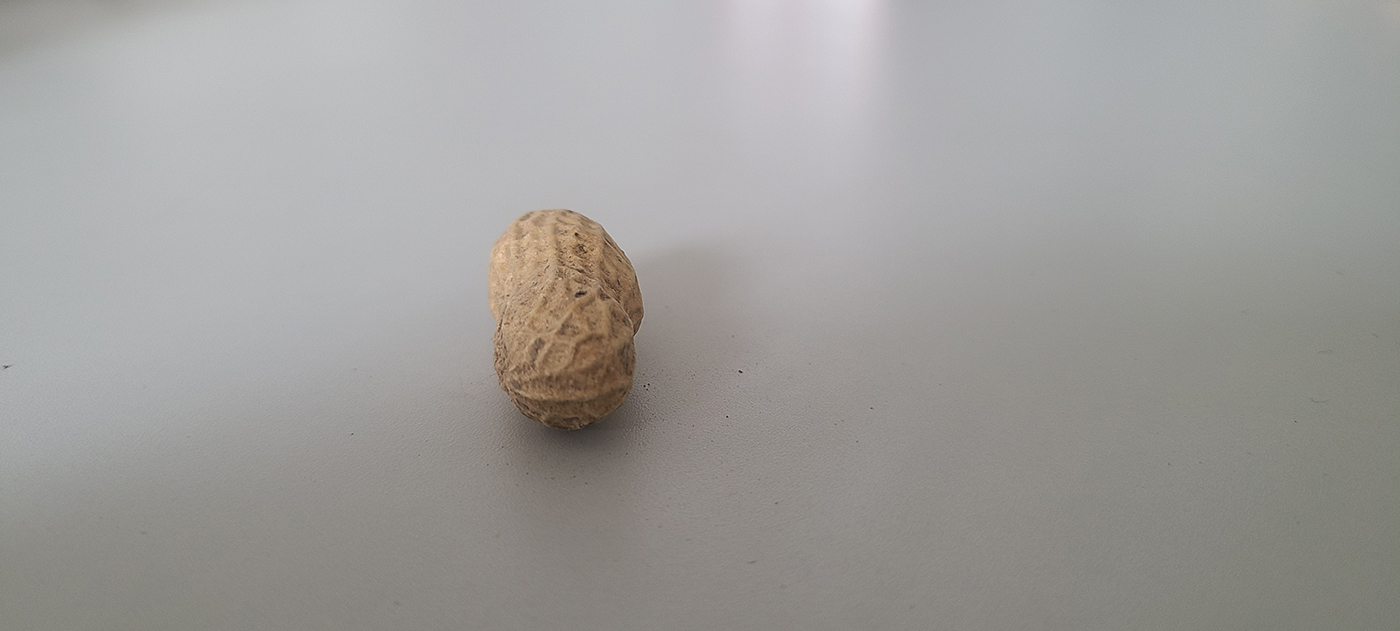h: (485, 207, 645, 432)
